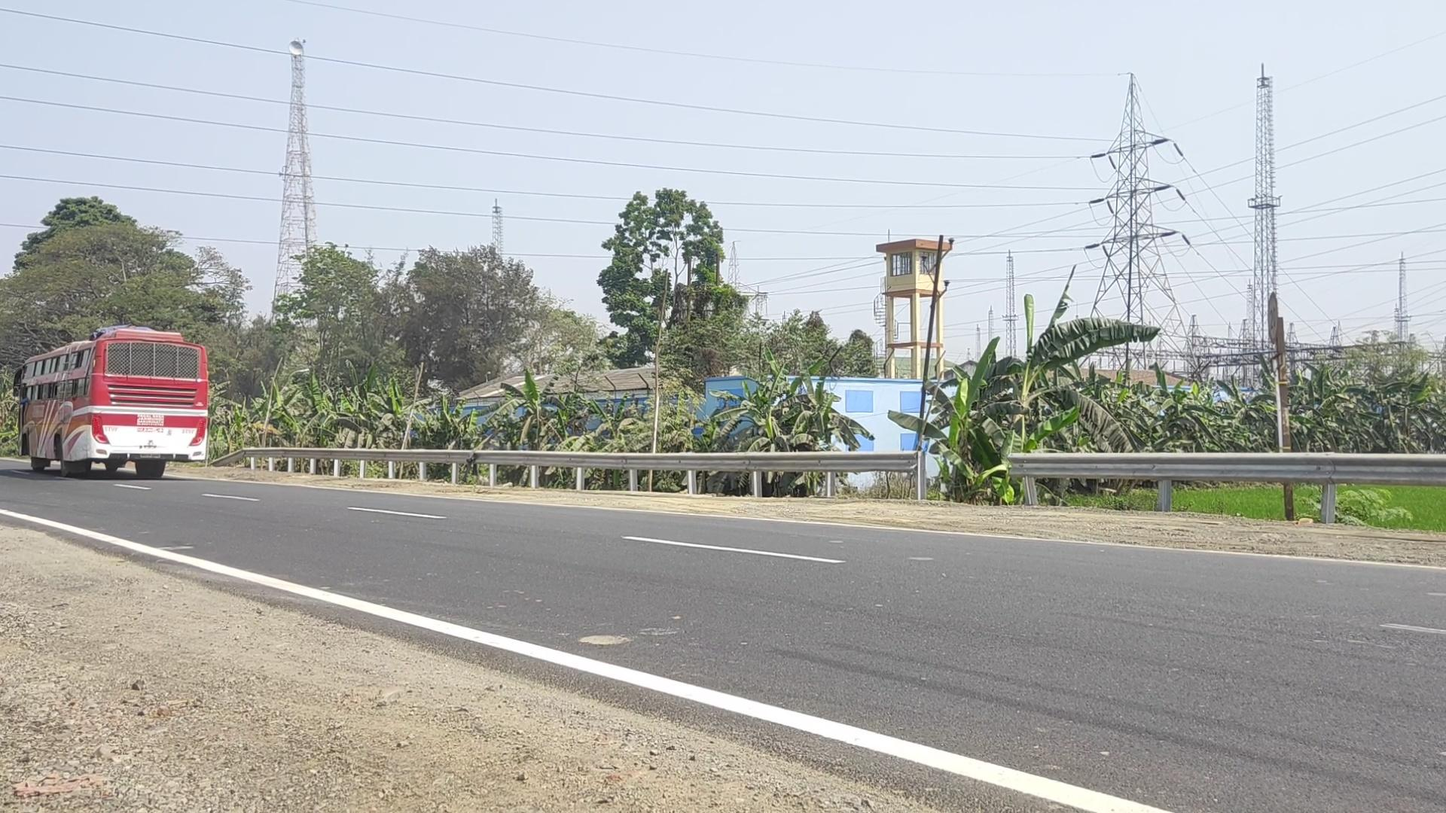Bus: (14, 329, 209, 479)
